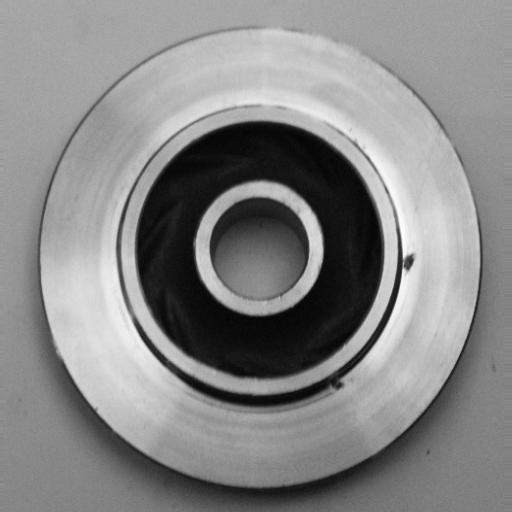crack: (322, 370, 357, 400), (395, 245, 419, 277)
unpolished_casting: (38, 25, 483, 497)
